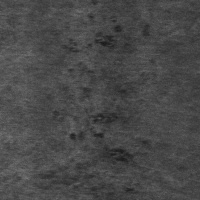rolled-in_scale: (61, 24, 142, 162)
